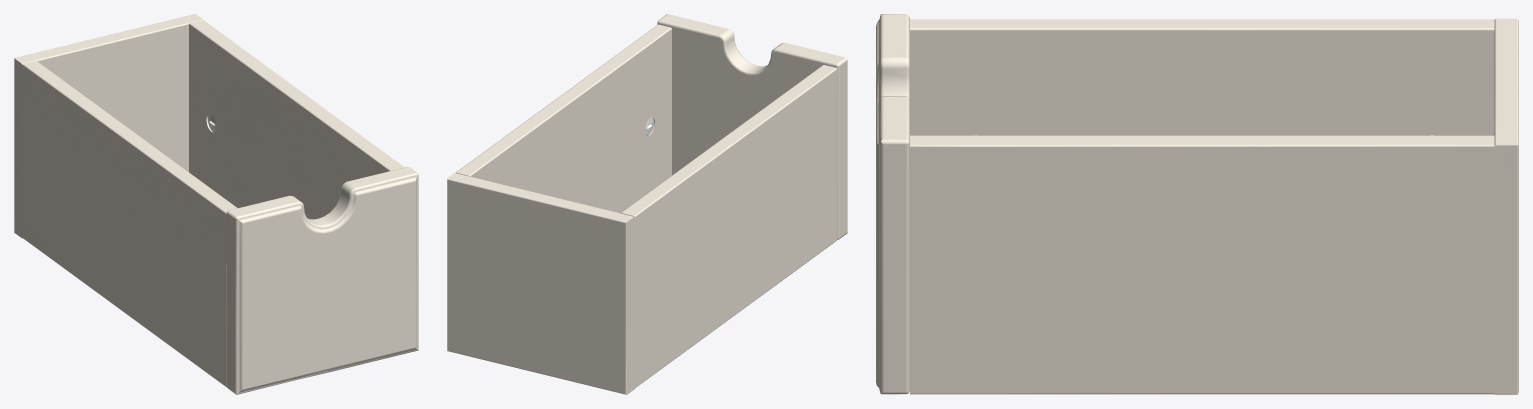
Rendered from tornviken_pudeko_00358971.glb.
3 renders of one model, left to right at view 1: azimuth 30°, elevation 25°; view 2: azimuth 150°, elevation 25°; view 3: azimuth 270°, elevation 25°, orthographic. The views are drawn at different scales.
Visible parts, largest first — view 1: tornviken_pudeko_00358971; view 2: tornviken_pudeko_00358971; view 3: tornviken_pudeko_00358971.
Part boxes in pixels (<box>): tornviken_pudeko_00358971: <box>14,14,418,394</box>; tornviken_pudeko_00358971: <box>447,14,847,394</box>; tornviken_pudeko_00358971: <box>876,14,1518,394</box>.
Bounding box in the file's own units: 0.162 × 0.15 × 0.343.
1 material, 1 textured.
